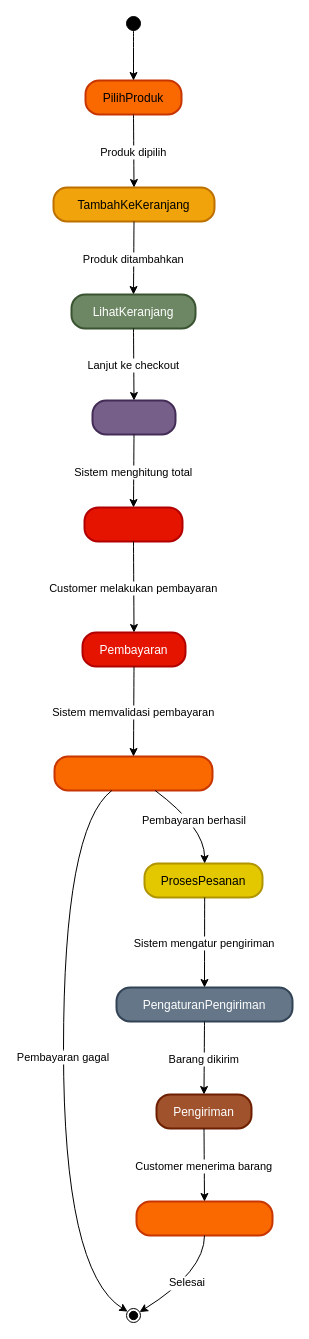
The diagram is 309 pixels wide and 1339 high, and some of its shapes have lost their labels. The centre of each missing label's shape, as x and y in pixels:
"Checkout" belongs at point (133, 417).
"HitungTotal" belongs at point (133, 524).
"PesananDiterima" belongs at point (204, 1218).
"ValidasiPembayaran" belongs at point (133, 773).
